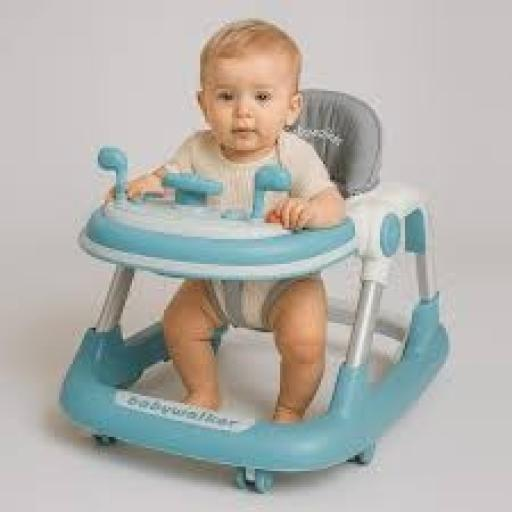baby: (128, 21, 343, 229)
